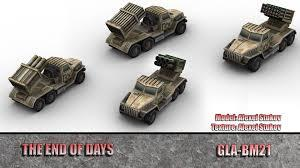MIL_SAM_TEL: (222, 2, 296, 73), (116, 53, 188, 125), (8, 52, 86, 115), (105, 1, 186, 58)
